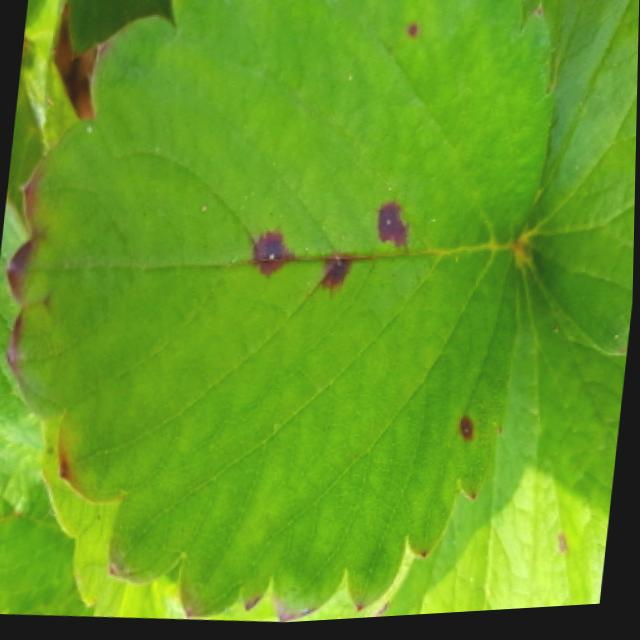Leaf Spot: (4, 0, 557, 625), (369, 258, 628, 622), (516, 0, 639, 364)
